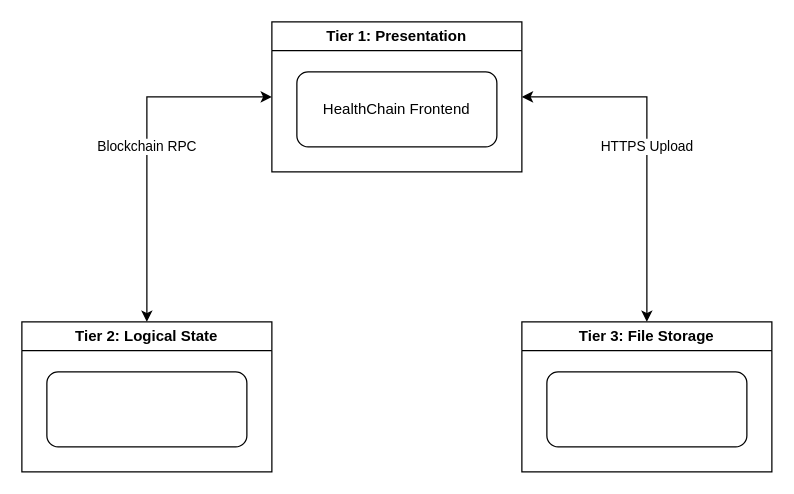
Image size: 794x494. Some labels were removed from this diagram. The shapes that lost their labels are listed below. From the top down, each one's centre as x and y in pixels, then its label:
At [146,409]: "Smart Contract".
At [646,409]: "IPFS / Pinata".
